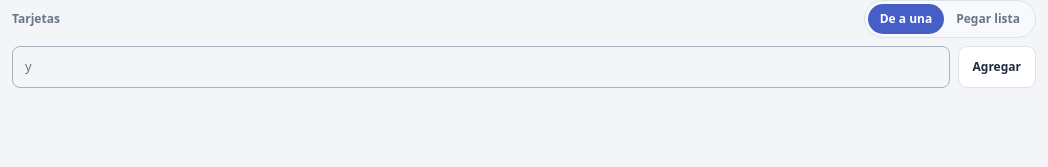
CardSortingEntry › modo de a una: Enter agrega y limpia el campo
In the field named "Agregar tarjeta": (481, 67) [12,46,950,88], type "Becas"
Then press Enter
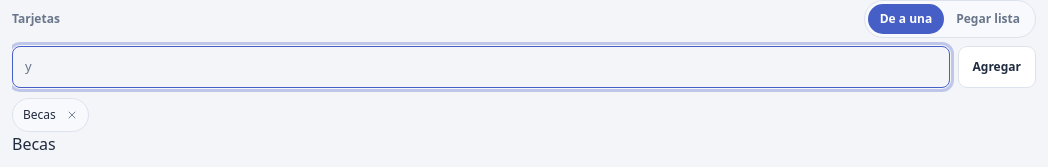
Now the button named "Quitar Becas" is shown, box [60,102,84,126]
